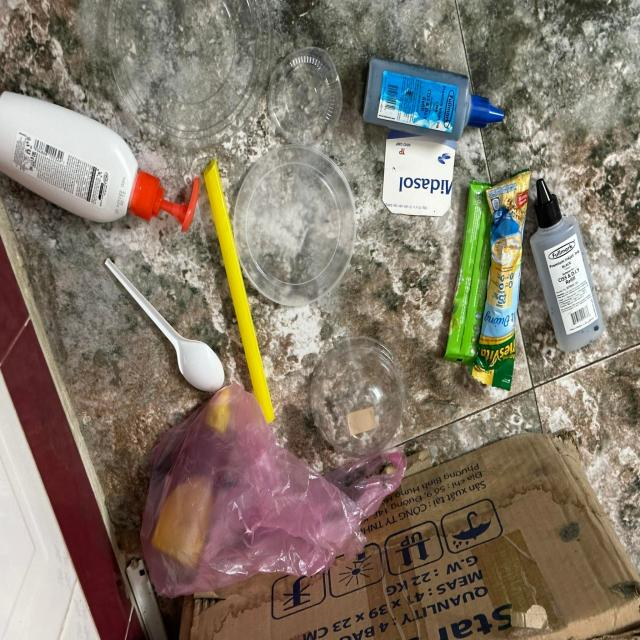bottle: (530, 177, 606, 350), (364, 54, 508, 140)
drinking straw: (209, 162, 275, 425)
lid: (232, 150, 357, 308), (312, 337, 402, 455), (265, 48, 342, 150)
packet: (470, 166, 533, 392), (443, 180, 497, 365)
plastic utensil: (0, 89, 202, 230), (104, 257, 225, 391)
trash bag: (141, 382, 411, 594)
